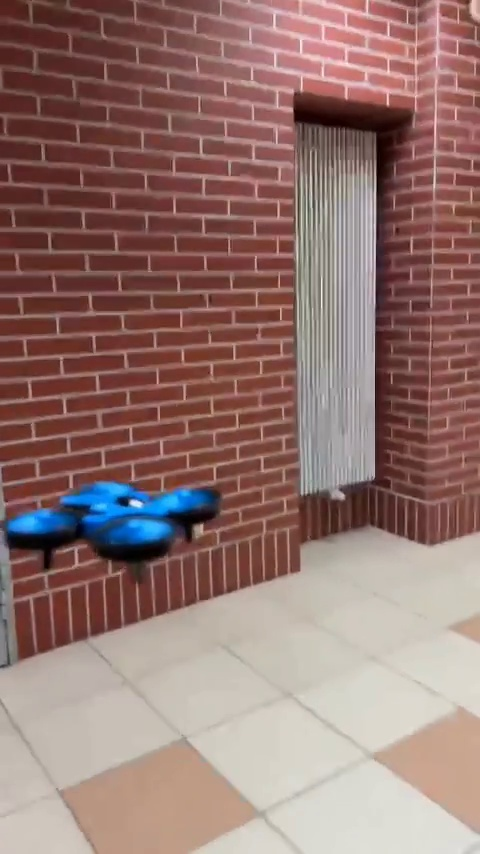drone: (11, 481, 218, 578)
